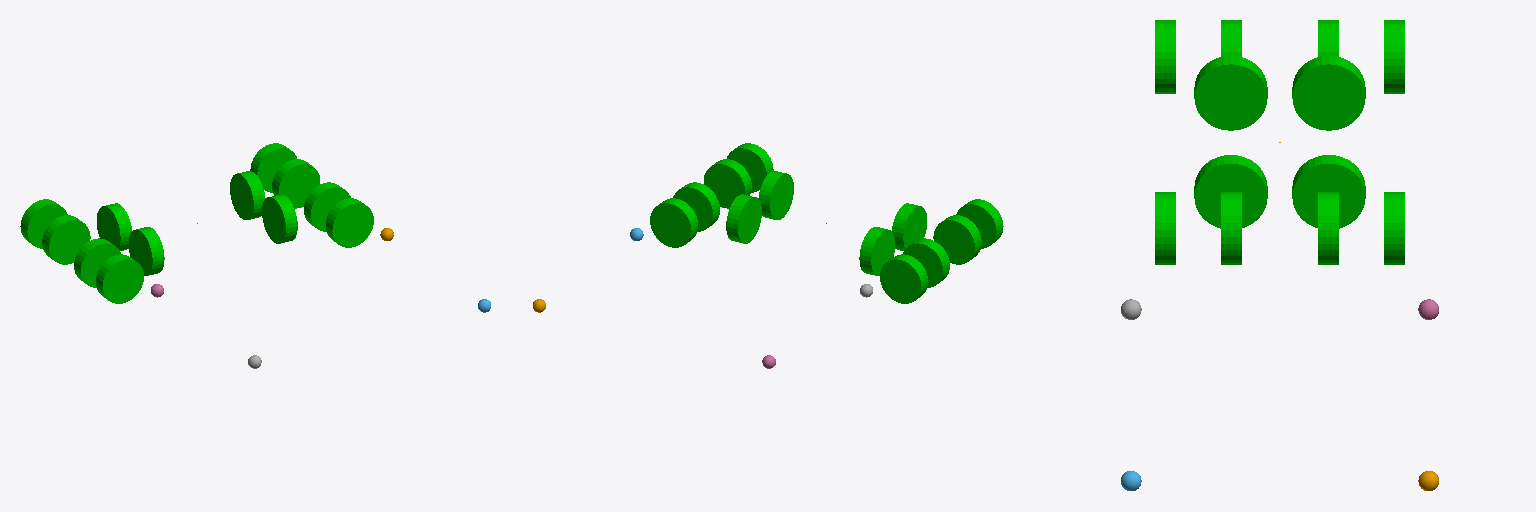
--- What the picture shows (computed from the rendered views, not written in the file) ---
3 views of the same robot in one strip: view 1: azimuth 30°, elevation 25°; view 2: azimuth 150°, elevation 25°; view 3: azimuth 270°, elevation 25° (orthographic).
Robot: go2 — 31 links, 30 joints (12 revolute, 18 fixed); root link base; default pose: joints at zero except 4 at the middle of their limits (FR_calf_joint = 1.78, FL_calf_joint = -1.78, RR_calf_joint = 1.78, RL_calf_joint = -1.78).
Links seen in each view (by area): view 1: FR_calf_rotor, RR_calf_rotor, RL_thigh_rotor, FL_thigh_rotor, FR_hip_rotor, FL_hip_rotor, RR_hip_rotor, FR_thigh_rotor, RR_thigh_rotor, RL_calf_rotor, RL_hip_rotor, FL_calf_rotor; view 2: FL_calf_rotor, RL_calf_rotor, RR_thigh_rotor, FR_thigh_rotor, FL_hip_rotor, FR_hip_rotor, RL_hip_rotor, FL_thigh_rotor, RL_thigh_rotor, RR_calf_rotor, RR_hip_rotor, FR_calf_rotor; view 3: RR_hip_rotor, RL_hip_rotor, FR_hip_rotor, FL_hip_rotor, RR_calf_rotor, RL_calf_rotor, FR_thigh_rotor, FR_calf_rotor, FL_thigh_rotor, FL_calf_rotor, RR_thigh_rotor, RL_thigh_rotor.
Link boxes in pixels (box(x1,y1,x2,y2)): FR_calf_rotor: box(326, 198, 373, 247); RR_calf_rotor: box(96, 254, 143, 303); RL_thigh_rotor: box(42, 215, 90, 264); FL_thigh_rotor: box(272, 159, 319, 208); FR_hip_rotor: box(262, 194, 297, 243); FL_hip_rotor: box(230, 171, 265, 219); RR_hip_rotor: box(129, 227, 164, 275); FR_thigh_rotor: box(304, 182, 350, 231); RR_thigh_rotor: box(74, 238, 120, 287); RL_calf_rotor: box(20, 199, 67, 248); RL_hip_rotor: box(97, 203, 131, 250); FL_calf_rotor: box(250, 143, 296, 192); FL_calf_rotor: box(650, 198, 697, 247); RL_calf_rotor: box(880, 254, 927, 303); RR_thigh_rotor: box(933, 215, 981, 264); FR_thigh_rotor: box(704, 159, 751, 208); FL_hip_rotor: box(726, 194, 761, 243); FR_hip_rotor: box(758, 171, 793, 219); RL_hip_rotor: box(859, 227, 894, 275); FL_thigh_rotor: box(673, 182, 719, 231); RL_thigh_rotor: box(903, 238, 949, 287); RR_calf_rotor: box(956, 199, 1003, 248); RR_hip_rotor: box(892, 203, 926, 250); FR_calf_rotor: box(727, 143, 773, 192); RR_hip_rotor: box(1194, 55, 1267, 130); RL_hip_rotor: box(1292, 55, 1365, 130); FR_hip_rotor: box(1194, 155, 1267, 228); FL_hip_rotor: box(1292, 155, 1365, 228); RR_calf_rotor: box(1155, 20, 1175, 93); RL_calf_rotor: box(1384, 20, 1404, 93); FR_thigh_rotor: box(1221, 192, 1241, 264); FR_calf_rotor: box(1155, 192, 1175, 264); FL_thigh_rotor: box(1318, 192, 1338, 264); FL_calf_rotor: box(1384, 192, 1404, 264); RR_thigh_rotor: box(1221, 20, 1241, 56); RL_thigh_rotor: box(1318, 20, 1338, 56).
Bounding box of the posed robot: 0.6401 × 0.304 × 0.2137 m (x, y, z).
Meshes: 5 distinct files referenced, 0 mesh visuals loaded (none loaded); not drawn: 13 (reference not matched to a file when rendering).

The robot description file, URDF, robot "go2":
<?xml version="1.0" ?>
<!-- =================================================================================== -->
<!-- |    This document was autogenerated by xacro from src/quad-stack/robots/go2_description/xacro/robot.xacro | -->
<!-- |    EDITING THIS FILE BY HAND IS NOT RECOMMENDED                                 | -->
<!-- =================================================================================== -->
<robot name="go2">
  <material name="black">
    <color rgba="0.0 0.0 0.0 1.0"/>
  </material>
  <material name="blue">
    <color rgba="0.0 0.0 0.8 1.0"/>
  </material>
  <material name="green">
    <color rgba="0.0 0.8 0.0 1.0"/>
  </material>
  <material name="grey">
    <color rgba="0.2 0.2 0.2 0.0"/>
  </material>
  <material name="silver">
    <color rgba="0.9137254901960784 0.9137254901960784 0.8470588235294118 1.0"/>
  </material>
  <material name="orange">
    <color rgba="1.0 0.4235294117647059 0.0392156862745098 1.0"/>
  </material>
  <material name="brown">
    <color rgba="0.8705882352941177 0.8117647058823529 0.7647058823529411 1.0"/>
  </material>
  <material name="red">
    <color rgba="0.8 0.0 0.0 1.0"/>
  </material>
  <material name="white">
    <color rgba="1.0 1.0 1.0 1.0"/>
  </material>
  <!-- ros_control plugin -->
  <gazebo>
    <plugin filename="libgazebo_ros_control.so" name="gazebo_ros_control">
      <robotNamespace>/go2_gazebo</robotNamespace>
      <robotSimType>gazebo_ros_control/DefaultRobotHWSim</robotSimType>
    </plugin>
  </gazebo>
  <!-- Show the trajectory of trunk center. -->
  <!--gazebo>
        <plugin name="3dplot" filename="libLinkPlot3DPlugin.so">
            <frequency>10</frequency>
            <plot>
                <link>base</link>
                <pose>0 0 0 0 0 0</pose>
                <material>Gazebo/Yellow</material>
            </plot>
        </plugin>
    </gazebo-->
  <!-- Show the trajectory of foot. You can add another trajectory about another foot. -->
  <gazebo>
    <plugin filename="libLinkPlot3DPlugin.so" name="3dplot">
      <frequency>100</frequency>
      <plot>
        <link>FL_foot</link>
        <pose>0 0 0 0 0 0</pose>
      </plot>
    </plugin>
  </gazebo>
  <gazebo>
    <plugin filename="libgazebo_ros_force.so" name="gazebo_ros_force">
      <bodyName>trunk</bodyName>
      <topicName>/apply_force/trunk</topicName>
    </plugin>
  </gazebo>
  <gazebo reference="imu_link">
    <gravity>true</gravity>
    <sensor name="imu_sensor" type="imu">
      <always_on>true</always_on>
      <update_rate>1000</update_rate>
      <visualize>true</visualize>
      <topic>__default_topic__</topic>
      <plugin filename="libgazebo_ros_imu_sensor.so" name="imu">
        <topicName>trunk_imu</topicName>
        <bodyName>imu_link</bodyName>
        <updateRateHZ>1000.0</updateRateHZ>
        <gaussianNoise>0.0</gaussianNoise>
        <xyzOffset>0 0 0</xyzOffset>
        <rpyOffset>0 0 0</rpyOffset>
        <frameName>imu_link</frameName>
      </plugin>
      <pose>0 0 0 0 0 0</pose>
    </sensor>
  </gazebo>
  <!-- Foot contacts. -->
  <gazebo reference="FR_calf">
    <sensor name="FR_foot_contact" type="contact">
      <update_rate>100</update_rate>
      <plugin filename="libunitreeFootContactPlugin.so" name="contactPlugin"/>
      <contact>
        <collision>FR_calf_fixed_joint_lump__FR_foot_collision_1</collision>
      </contact>
    </sensor>
  </gazebo>
  <gazebo reference="FL_calf">
    <sensor name="FL_foot_contact" type="contact">
      <update_rate>100</update_rate>
      <plugin filename="libunitreeFootContactPlugin.so" name="contactPlugin"/>
      <contact>
        <collision>FL_calf_fixed_joint_lump__FL_foot_collision_1</collision>
      </contact>
    </sensor>
  </gazebo>
  <gazebo reference="RR_calf">
    <sensor name="RR_foot_contact" type="contact">
      <update_rate>100</update_rate>
      <plugin filename="libunitreeFootContactPlugin.so" name="contactPlugin"/>
      <contact>
        <collision>RR_calf_fixed_joint_lump__RR_foot_collision_1</collision>
      </contact>
    </sensor>
  </gazebo>
  <gazebo reference="RL_calf">
    <sensor name="RL_foot_contact" type="contact">
      <update_rate>100</update_rate>
      <plugin filename="libunitreeFootContactPlugin.so" name="contactPlugin"/>
      <contact>
        <collision>RL_calf_fixed_joint_lump__RL_foot_collision_1</collision>
      </contact>
    </sensor>
  </gazebo>
  <!-- Visualization of Foot contacts. -->
  <gazebo reference="FR_foot">
    <visual>
      <plugin filename="libunitreeDrawForcePlugin.so" name="drawForcePlugin">
        <topicName>FR_foot_contact</topicName>
      </plugin>
    </visual>
  </gazebo>
  <gazebo reference="FL_foot">
    <visual>
      <plugin filename="libunitreeDrawForcePlugin.so" name="drawForcePlugin">
        <topicName>FL_foot_contact</topicName>
      </plugin>
    </visual>
  </gazebo>
  <gazebo reference="RR_foot">
    <visual>
      <plugin filename="libunitreeDrawForcePlugin.so" name="drawForcePlugin">
        <topicName>RR_foot_contact</topicName>
      </plugin>
    </visual>
  </gazebo>
  <gazebo reference="RL_foot">
    <visual>
      <plugin filename="libunitreeDrawForcePlugin.so" name="drawForcePlugin">
        <topicName>RL_foot_contact</topicName>
      </plugin>
    </visual>
  </gazebo>
  <!-- Gazebo neural control plugin -->
  <gazebo>
    <plugin filename="libunitree_control.so" name="unitree_gazebo_plugin">
      <robot>go2</robot>
    </plugin>
  </gazebo>
  <gazebo reference="base">
    <turnGravityOff>false</turnGravityOff>
  </gazebo>
  <gazebo reference="trunk">
    <mu1>0.2</mu1>
    <mu2>0.2</mu2>
    <kp value="1000000.0"/>
    <kd value="1.0"/>
  </gazebo>
  <gazebo reference="stick_link">
    <mu1>0.2</mu1>
    <mu2>0.2</mu2>
  </gazebo>
  <gazebo reference="imu_link">
    <mu1>0.2</mu1>
    <mu2>0.2</mu2>
  </gazebo>
  <!-- FL leg -->
  <gazebo reference="FL_hip">
    <mu1>0.2</mu1>
    <mu2>0.2</mu2>
  </gazebo>
  <gazebo reference="FL_thigh">
    <mu1>0.2</mu1>
    <mu2>0.2</mu2>
    <self_collide>1</self_collide>
    <kp value="1000000.0"/>
    <kd value="1.0"/>
  </gazebo>
  <gazebo reference="FL_calf">
    <mu1>0.2</mu1>
    <mu2>0.2</mu2>
    <self_collide>1</self_collide>
  </gazebo>
  <gazebo reference="FL_foot">
    <mu1>0.6</mu1>
    <mu2>0.6</mu2>
    <self_collide>1</self_collide>
    <kp value="1000000.0"/>
    <kd value="1.0"/>
  </gazebo>
  <!-- FR leg -->
  <gazebo reference="FR_hip">
    <mu1>0.2</mu1>
    <mu2>0.2</mu2>
  </gazebo>
  <gazebo reference="FR_thigh">
    <mu1>0.2</mu1>
    <mu2>0.2</mu2>
    <self_collide>1</self_collide>
    <kp value="1000000.0"/>
    <kd value="1.0"/>
  </gazebo>
  <gazebo reference="FR_calf">
    <mu1>0.2</mu1>
    <mu2>0.2</mu2>
    <self_collide>1</self_collide>
  </gazebo>
  <gazebo reference="FR_foot">
    <mu1>0.6</mu1>
    <mu2>0.6</mu2>
    <self_collide>1</self_collide>
    <kp value="1000000.0"/>
    <kd value="1.0"/>
  </gazebo>
  <!-- RL leg -->
  <gazebo reference="RL_hip">
    <mu1>0.2</mu1>
    <mu2>0.2</mu2>
  </gazebo>
  <gazebo reference="RL_thigh">
    <mu1>0.2</mu1>
    <mu2>0.2</mu2>
    <self_collide>1</self_collide>
    <kp value="1000000.0"/>
    <kd value="1.0"/>
  </gazebo>
  <gazebo reference="RL_calf">
    <mu1>0.2</mu1>
    <mu2>0.2</mu2>
    <self_collide>1</self_collide>
  </gazebo>
  <gazebo reference="RL_foot">
    <mu1>0.6</mu1>
    <mu2>0.6</mu2>
    <self_collide>1</self_collide>
    <kp value="1000000.0"/>
    <kd value="1.0"/>
  </gazebo>
  <!-- RR leg -->
  <gazebo reference="RR_hip">
    <mu1>0.2</mu1>
    <mu2>0.2</mu2>
  </gazebo>
  <gazebo reference="RR_thigh">
    <mu1>0.2</mu1>
    <mu2>0.2</mu2>
    <self_collide>1</self_collide>
    <kp value="1000000.0"/>
    <kd value="1.0"/>
  </gazebo>
  <gazebo reference="RR_calf">
    <mu1>0.2</mu1>
    <mu2>0.2</mu2>
    <self_collide>1</self_collide>
  </gazebo>
  <gazebo reference="RR_foot">
    <mu1>0.6</mu1>
    <mu2>0.6</mu2>
    <self_collide>1</self_collide>
    <kp value="1000000.0"/>
    <kd value="1.0"/>
  </gazebo>
  <!-- <xacro:include filename="$(find go2_gazebo)/launch/stairs.urdf.xacro"/> -->
  <!-- <xacro:stairs stairs="15" xpos="0" ypos="0" zpos="0" /> -->
  <!-- Rotor related joint and link is only for demonstrate location. -->
  <!-- Actually, the rotor will rotate and the joint is not fixed. Reduction ratio should be considered. -->
  <link name="base">
    <visual>
      <origin rpy="0 0 0" xyz="0 0 0"/>
      <geometry>
        <box size="0.001 0.001 0.001"/>
      </geometry>
    </visual>
  </link>
  <joint name="floating_base" type="fixed">
    <origin rpy="0 0 0" xyz="0 0 0"/>
    <parent link="base"/>
    <child link="trunk"/>
  </joint>
  <link name="trunk">
    <visual>
      <origin rpy="0 0 0" xyz="0 0 0"/>
      <geometry>
        <mesh filename="package://go2_description/meshes/trunk.dae" scale="1 1 1"/>
      </geometry>
      <!-- <material name="orange"/> -->
    </visual>
    <collision>
      <origin rpy="0 0 0" xyz="0 0 0"/>
      <geometry>
        <box size="0.3762 0.0935 0.114"/>
      </geometry>
    </collision>
    <inertial>
      <origin rpy="0 0 0" xyz="0.021112 0.0 -0.005366"/>
      <mass value="6.921"/>
      <inertia ixx="0.02448" ixy="0.00012166" ixz="0.0014849" iyy="0.098077" iyz="-3.12e-05" izz="0.107"/>
    </inertial>
  </link>
  <joint name="imu_joint" type="fixed">
    <parent link="trunk"/>
    <child link="imu_link"/>
    <origin rpy="0 0 0" xyz="0 0 0"/>
  </joint>
  <link name="imu_link">
    <inertial>
      <mass value="0.001"/>
      <origin rpy="0 0 0" xyz="0 0 0"/>
      <inertia ixx="0.0001" ixy="0" ixz="0" iyy="0.0001" iyz="0" izz="0.0001"/>
    </inertial>
    <visual>
      <origin rpy="0 0 0" xyz="0 0 0"/>
      <geometry>
        <box size="0.001 0.001 0.001"/>
      </geometry>
      <!-- <material name="red"/> -->
    </visual>
    <collision>
      <origin rpy="0 0 0" xyz="0 0 0"/>
      <geometry>
        <box size=".001 .001 .001"/>
      </geometry>
    </collision>
  </link>
  <joint name="FR_hip_joint" type="revolute">
    <origin rpy="0 0 0" xyz="0.1934 -0.0465 0"/>
    <parent link="trunk"/>
    <child link="FR_hip"/>
    <axis xyz="1 0 0"/>
    <dynamics damping="0.0" friction="0.0"/>
    <limit effort="23.7" lower="-1.0472" upper="1.0472" velocity="30.1"/>
  </joint>
  <joint name="FR_hip_rotor_joint" type="fixed">
    <origin rpy="0 0 0" xyz="0.11215 -0.04675 0"/>
    <parent link="trunk"/>
    <child link="FR_hip_rotor"/>
  </joint>
  <link name="FR_hip">
    <visual>
      <origin rpy="3.141592653589793 0 0" xyz="0 0 0"/>
      <geometry>
        <mesh filename="package://go2_description/meshes/hip.dae" scale="1 1 1"/>
      </geometry>
      <!-- <material name="orange"/> -->
    </visual>
    <collision>
      <origin rpy="1.5707963267948966 0 0" xyz="0 -0.0955 0"/>
      <geometry>
        <cylinder length="0.04" radius="0.046"/>
      </geometry>
    </collision>
    <inertial>
      <origin rpy="0 0 0" xyz="-0.0054 -0.00194 -0.000105"/>
      <mass value="0.678"/>
      <inertia ixx="0.00048" ixy="3.01e-06" ixz="1.11e-06" iyy="0.000884" iyz="1.42e-06" izz="0.000596"/>
    </inertial>
  </link>
  <link name="FR_hip_rotor">
    <visual>
      <origin rpy="0 1.5707963267948966 0" xyz="0 0 0"/>
      <geometry>
        <cylinder length="0.02" radius="0.035"/>
      </geometry>
      <material name="green"/>
    </visual>
    <!-- <collision>
                <origin rpy="0 ${PI/2.0} 0" xyz="0 0 0"/>
                <geometry>
                    <cylinder length="0.02" radius="0.035"/>
                </geometry>
            </collision> -->
    <inertial>
      <origin rpy="0 0 0" xyz="0.0 0.0 0.0"/>
      <mass value="0.089"/>
      <inertia ixx="0.000111842" ixy="0.0" ixz="0.0" iyy="5.9647e-05" iyz="0.0" izz="5.9647e-05"/>
    </inertial>
  </link>
  <joint name="FR_thigh_joint" type="revolute">
    <origin rpy="0 0 0" xyz="0 -0.0955 0"/>
    <parent link="FR_hip"/>
    <child link="FR_thigh"/>
    <axis xyz="0 -1 0"/>
    <dynamics damping="0.0" friction="0.0"/>
    <limit effort="23.7" lower="-3.4907" upper="1.5708" velocity="30.1"/>
  </joint>
  <joint name="FR_thigh_rotor_joint" type="fixed">
    <origin rpy="0 0 0" xyz="0.0 0.00015 0"/>
    <parent link="FR_hip"/>
    <child link="FR_thigh_rotor"/>
  </joint>
  <link name="FR_thigh">
    <visual>
      <origin rpy="0 0 0" xyz="0 0 0"/>
      <geometry>
        <mesh filename="package://go2_description/meshes/thigh_mirror.dae" scale="1 1 1"/>
      </geometry>
      <!-- <material name="orange"/> -->
    </visual>
    <collision>
      <origin rpy="0 1.5707963267948966 0" xyz="0 0 -0.1065"/>
      <geometry>
        <box size="0.213 0.0245 0.034"/>
      </geometry>
    </collision>
    <inertial>
      <origin rpy="0 0 0" xyz="-0.00374 0.0223 -0.0327"/>
      <mass value="1.152"/>
      <inertia ixx="0.00584" ixy="-8.72e-05" ixz="-0.000289" iyy="0.0058" iyz="-0.000808" izz="0.00103"/>
    </inertial>
  </link>
  <link name="FR_thigh_rotor">
    <visual>
      <origin rpy="1.5707963267948966 0 0" xyz="0 0 0"/>
      <geometry>
        <cylinder length="0.02" radius="0.035"/>
      </geometry>
      <material name="green"/>
    </visual>
    <!-- <collision>
                <origin rpy="${PI/2.0} 0 0" xyz="0 0 0"/>
                <geometry>
                    <cylinder length="0.02" radius="0.035"/>
                </geometry>
            </collision> -->
    <inertial>
      <origin rpy="0 0 0" xyz="0.0 0.0 0.0"/>
      <mass value="0.089"/>
      <inertia ixx="5.9647e-05" ixy="0.0" ixz="0.0" iyy="0.000111842" iyz="0.0" izz="5.9647e-05"/>
    </inertial>
  </link>
  <joint name="FR_calf_joint" type="revolute">
    <origin rpy="0 0 0" xyz="0 0 -0.213"/>
    <parent link="FR_thigh"/>
    <child link="FR_calf"/>
    <axis xyz="0 -1 0"/>
    <dynamics damping="0.0" friction="0.0"/>
    <limit effort="35.55" lower="0.83776" upper="2.7227" velocity="20.06"/>
  </joint>
  <joint name="FR_calf_rotor_joint" type="fixed">
    <origin rpy="0 0 0" xyz="0.0 0.03235 0"/>
    <parent link="FR_thigh"/>
    <child link="FR_calf_rotor"/>
  </joint>
  <link name="FR_calf">
    <visual>
      <origin rpy="0 0 0" xyz="0 0 0"/>
      <geometry>
        <mesh filename="package://go2_description/meshes/calf.dae" scale="1 1 1"/>
      </geometry>
      <!-- <material name="orange"/> -->
    </visual>
    <collision>
      <origin rpy="0 1.5707963267948966 0" xyz="0 0 -0.1065"/>
      <geometry>
        <box size="0.213 0.016 0.016"/>
      </geometry>
    </collision>
    <inertial>
      <origin rpy="0 0 0" xyz="0.00548 -0.000975 -0.115"/>
      <mass value="0.154"/>
      <inertia ixx="0.00108" ixy="3.4e-07" ixz="1.72e-05" iyy="0.0011" iyz="8.28e-06" izz="3.29e-05"/>
    </inertial>
  </link>
  <link name="FR_calf_rotor">
    <visual>
      <origin rpy="1.5707963267948966 0 0" xyz="0 0 0"/>
      <geometry>
        <cylinder length="0.02" radius="0.035"/>
      </geometry>
      <material name="green"/>
    </visual>
    <!-- <collision>
                <origin rpy="${PI/2.0} 0 0" xyz="0 0 0"/>
                <geometry>
                    <cylinder length="0.02" radius="0.035"/>
                </geometry>
            </collision> -->
    <inertial>
      <origin rpy="0 0 0" xyz="0.0 0.0 0.0"/>
      <mass value="0.089"/>
      <inertia ixx="5.9647e-05" ixy="0.0" ixz="0.0" iyy="0.000111842" iyz="0.0" izz="5.9647e-05"/>
    </inertial>
  </link>
  <joint name="FR_foot_fixed" type="fixed">
    <origin rpy="0 0 0" xyz="0 0 -0.213"/>
    <parent link="FR_calf"/>
    <child link="FR_foot"/>
  </joint>
  <link name="FR_foot">
    <visual>
      <origin rpy="0 0 0" xyz="0 0 0"/>
      <geometry>
        <sphere radius="0.01"/>
      </geometry>
      <!-- <material name="orange"/> -->
    </visual>
    <collision>
      <origin rpy="0 0 0" xyz="0 0 0"/>
      <geometry>
        <sphere radius="0.02"/>
      </geometry>
    </collision>
    <inertial>
      <mass value="0.06"/>
      <inertia ixx="9.600000000000001e-06" ixy="0.0" ixz="0.0" iyy="9.600000000000001e-06" iyz="0.0" izz="9.600000000000001e-06"/>
    </inertial>
  </link>
  <transmission name="FR_hip_tran">
    <type>transmission_interface/SimpleTransmission</type>
    <joint name="FR_hip_joint">
      <hardwareInterface>hardware_interface/EffortJointInterface</hardwareInterface>
    </joint>
    <actuator name="FR_hip_motor">
      <hardwareInterface>hardware_interface/EffortJointInterface</hardwareInterface>
      <mechanicalReduction>1</mechanicalReduction>
    </actuator>
  </transmission>
  <transmission name="FR_thigh_tran">
    <type>transmission_interface/SimpleTransmission</type>
    <joint name="FR_thigh_joint">
      <hardwareInterface>hardware_interface/EffortJointInterface</hardwareInterface>
    </joint>
    <actuator name="FR_thigh_motor">
      <hardwareInterface>hardware_interface/EffortJointInterface</hardwareInterface>
      <mechanicalReduction>1</mechanicalReduction>
    </actuator>
  </transmission>
  <transmission name="FR_calf_tran">
    <type>transmission_interface/SimpleTransmission</type>
    <joint name="FR_calf_joint">
      <hardwareInterface>hardware_interface/EffortJointInterface</hardwareInterface>
    </joint>
    <actuator name="FR_calf_motor">
      <hardwareInterface>hardware_interface/EffortJointInterface</hardwareInterface>
      <mechanicalReduction>1</mechanicalReduction>
    </actuator>
  </transmission>
  <joint name="FL_hip_joint" type="revolute">
    <origin rpy="0 0 0" xyz="0.1934 0.0465 0"/>
    <parent link="trunk"/>
    <child link="FL_hip"/>
    <axis xyz="1 0 0"/>
    <dynamics damping="0.0" friction="0.0"/>
    <limit effort="23.7" lower="-1.0472" upper="1.0472" velocity="30.1"/>
  </joint>
  <joint name="FL_hip_rotor_joint" type="fixed">
    <origin rpy="0 0 0" xyz="0.11215 0.04675 0"/>
    <parent link="trunk"/>
    <child link="FL_hip_rotor"/>
  </joint>
  <link name="FL_hip">
    <visual>
      <origin rpy="0 0 0" xyz="0 0 0"/>
      <geometry>
        <mesh filename="package://go2_description/meshes/hip.dae" scale="1 1 1"/>
      </geometry>
      <!-- <material name="orange"/> -->
    </visual>
    <collision>
      <origin rpy="1.5707963267948966 0 0" xyz="0 0.0955 0"/>
      <geometry>
        <cylinder length="0.04" radius="0.046"/>
      </geometry>
    </collision>
    <inertial>
      <origin rpy="0 0 0" xyz="-0.0054 0.00194 -0.000105"/>
      <mass value="0.678"/>
      <inertia ixx="0.00048" ixy="-3.01e-06" ixz="1.11e-06" iyy="0.000884" iyz="-1.42e-06" izz="0.000596"/>
    </inertial>
  </link>
  <link name="FL_hip_rotor">
    <visual>
      <origin rpy="0 1.5707963267948966 0" xyz="0 0 0"/>
      <geometry>
        <cylinder length="0.02" radius="0.035"/>
      </geometry>
      <material name="green"/>
    </visual>
    <!-- <collision>
                <origin rpy="0 ${PI/2.0} 0" xyz="0 0 0"/>
                <geometry>
                    <cylinder length="0.02" radius="0.035"/>
                </geometry>
            </collision> -->
    <inertial>
      <origin rpy="0 0 0" xyz="0.0 0.0 0.0"/>
      <mass value="0.089"/>
      <inertia ixx="0.000111842" ixy="0.0" ixz="0.0" iyy="5.9647e-05" iyz="0.0" izz="5.9647e-05"/>
    </inertial>
  </link>
  <joint name="FL_thigh_joint" type="revolute">
    <origin rpy="0 0 0" xyz="0 0.0955 0"/>
    <parent link="FL_hip"/>
    <child link="FL_thigh"/>
    <axis xyz="0 1 0"/>
    <dynamics damping="0.0" friction="0.0"/>
    <limit effort="23.7" lower="-1.5708" upper="3.4907" velocity="30.1"/>
  </joint>
  <joint name="FL_thigh_rotor_joint" type="fixed">
    <origin rpy="0 0 0" xyz="0.0 -0.00015 0"/>
    <parent link="FL_hip"/>
    <child link="FL_thigh_rotor"/>
  </joint>
  <link name="FL_thigh">
    <visual>
      <origin rpy="0 0 0" xyz="0 0 0"/>
      <geometry>
        <mesh filename="package://go2_description/meshes/thigh.dae" scale="1 1 1"/>
      </geometry>
      <!-- <material name="orange"/> -->
    </visual>
    <collision>
      <origin rpy="0 1.5707963267948966 0" xyz="0 0 -0.1065"/>
      <geometry>
        <box size="0.213 0.0245 0.034"/>
      </geometry>
    </collision>
    <inertial>
      <origin rpy="0 0 0" xyz="-0.00374 -0.0223 -0.0327"/>
      <mass value="1.152"/>
      <inertia ixx="0.00584" ixy="8.72e-05" ixz="-0.000289" iyy="0.0058" iyz="0.000808" izz="0.00103"/>
    </inertial>
  </link>
  <link name="FL_thigh_rotor">
    <visual>
      <origin rpy="1.5707963267948966 0 0" xyz="0 0 0"/>
      <geometry>
        <cylinder length="0.02" radius="0.035"/>
      </geometry>
      <material name="green"/>
    </visual>
    <!-- <collision>
                <origin rpy="${PI/2.0} 0 0" xyz="0 0 0"/>
                <geometry>
                    <cylinder length="0.02" radius="0.035"/>
                </geometry>
            </collision> -->
    <inertial>
      <origin rpy="0 0 0" xyz="0.0 0.0 0.0"/>
      <mass value="0.089"/>
      <inertia ixx="5.9647e-05" ixy="0.0" ixz="0.0" iyy="0.000111842" iyz="0.0" izz="5.9647e-05"/>
    </inertial>
  </link>
  <joint name="FL_calf_joint" type="revolute">
    <origin rpy="0 0 0" xyz="0 0 -0.213"/>
    <parent link="FL_thigh"/>
    <child link="FL_calf"/>
    <axis xyz="0 1 0"/>
    <dynamics damping="0.0" friction="0.0"/>
    <limit effort="35.55" lower="-2.7227" upper="-0.83776" velocity="20.06"/>
  </joint>
  <joint name="FL_calf_rotor_joint" type="fixed">
    <origin rpy="0 0 0" xyz="0.0 -0.03235 0"/>
    <parent link="FL_thigh"/>
    <child link="FL_calf_rotor"/>
  </joint>
  <link name="FL_calf">
    <visual>
      <origin rpy="0 0 0" xyz="0 0 0"/>
      <geometry>
        <mesh filename="package://go2_description/meshes/calf.dae" scale="1 1 1"/>
      </geometry>
      <!-- <material name="orange"/> -->
    </visual>
    <collision>
      <origin rpy="0 1.5707963267948966 0" xyz="0 0 -0.1065"/>
      <geometry>
        <box size="0.213 0.016 0.016"/>
      </geometry>
    </collision>
    <inertial>
      <origin rpy="0 0 0" xyz="0.00548 -0.000975 -0.115"/>
      <mass value="0.154"/>
      <inertia ixx="0.00108" ixy="3.4e-07" ixz="1.72e-05" iyy="0.0011" iyz="8.28e-06" izz="3.29e-05"/>
    </inertial>
  </link>
  <link name="FL_calf_rotor">
    <visual>
      <origin rpy="1.5707963267948966 0 0" xyz="0 0 0"/>
      <geometry>
        <cylinder length="0.02" radius="0.035"/>
      </geometry>
      <material name="green"/>
    </visual>
    <!-- <collision>
                <origin rpy="${PI/2.0} 0 0" xyz="0 0 0"/>
                <geometry>
                    <cylinder length="0.02" radius="0.035"/>
                </geometry>
            </collision> -->
    <inertial>
      <origin rpy="0 0 0" xyz="0.0 0.0 0.0"/>
      <mass value="0.089"/>
      <inertia ixx="5.9647e-05" ixy="0.0" ixz="0.0" iyy="0.000111842" iyz="0.0" izz="5.9647e-05"/>
    </inertial>
  </link>
  <joint name="FL_foot_fixed" type="fixed">
    <origin rpy="0 0 0" xyz="0 0 -0.213"/>
    <parent link="FL_calf"/>
    <child link="FL_foot"/>
  </joint>
  <link name="FL_foot">
    <visual>
      <origin rpy="0 0 0" xyz="0 0 0"/>
      <geometry>
        <sphere radius="0.01"/>
      </geometry>
      <!-- <material name="orange"/> -->
    </visual>
    <collision>
      <origin rpy="0 0 0" xyz="0 0 0"/>
      <geometry>
        <sphere radius="0.02"/>
      </geometry>
    </collision>
    <inertial>
      <mass value="0.06"/>
      <inertia ixx="9.600000000000001e-06" ixy="0.0" ixz="0.0" iyy="9.600000000000001e-06" iyz="0.0" izz="9.600000000000001e-06"/>
    </inertial>
  </link>
  <transmission name="FL_hip_tran">
    <type>transmission_interface/SimpleTransmission</type>
    <joint name="FL_hip_joint">
      <hardwareInterface>hardware_interface/EffortJointInterface</hardwareInterface>
    </joint>
    <actuator name="FL_hip_motor">
      <hardwareInterface>hardware_interface/EffortJointInterface</hardwareInterface>
      <mechanicalReduction>1</mechanicalReduction>
    </actuator>
  </transmission>
  <transmission name="FL_thigh_tran">
    <type>transmission_interface/SimpleTransmission</type>
    <joint name="FL_thigh_joint">
      <hardwareInterface>hardware_interface/EffortJointInterface</hardwareInterface>
    </joint>
    <actuator name="FL_thigh_motor">
      <hardwareInterface>hardware_interface/EffortJointInterface</hardwareInterface>
      <mechanicalReduction>1</mechanicalReduction>
    </actuator>
  </transmission>
  <transmission name="FL_calf_tran">
    <type>transmission_interface/SimpleTransmission</type>
    <joint name="FL_calf_joint">
      <hardwareInterface>hardware_interface/EffortJointInterface</hardwareInterface>
    </joint>
    <actuator name="FL_calf_motor">
      <hardwareInterface>hardware_interface/EffortJointInterface</hardwareInterface>
      <mechanicalReduction>1</mechanicalReduction>
    </actuator>
  </transmission>
  <joint name="RR_hip_joint" type="revolute">
    <origin rpy="0 0 0" xyz="-0.1934 -0.0465 0"/>
    <parent link="trunk"/>
    <child link="RR_hip"/>
    <axis xyz="-1 0 0"/>
    <dynamics damping="0.0" friction="0.0"/>
    <limit effort="23.7" lower="-1.0472" upper="1.0472" velocity="30.1"/>
  </joint>
  <joint name="RR_hip_rotor_joint" type="fixed">
    <origin rpy="0 0 0" xyz="-0.11215 -0.04675 0"/>
    <parent link="trunk"/>
    <child link="RR_hip_rotor"/>
  </joint>
  <link name="RR_hip">
    <visual>
      <origin rpy="3.141592653589793 3.141592653589793 0" xyz="0 0 0"/>
      <geometry>
        <mesh filename="package://go2_description/meshes/hip.dae" scale="1 1 1"/>
      </geometry>
      <!-- <material name="orange"/> -->
    </visual>
    <collision>
      <origin rpy="1.5707963267948966 0 0" xyz="0 -0.0955 0"/>
      <geometry>
        <cylinder length="0.04" radius="0.046"/>
      </geometry>
    </collision>
    <inertial>
      <origin rpy="0 0 0" xyz="0.0054 -0.00194 -0.000105"/>
      <mass value="0.678"/>
      <inertia ixx="0.00048" ixy="-3.01e-06" ixz="-1.11e-06" iyy="0.000884" iyz="1.42e-06" izz="0.000596"/>
    </inertial>
  </link>
  <link name="RR_hip_rotor">
    <visual>
      <origin rpy="0 1.5707963267948966 0" xyz="0 0 0"/>
      <geometry>
        <cylinder length="0.02" radius="0.035"/>
      </geometry>
      <material name="green"/>
    </visual>
    <!-- <collision>
                <origin rpy="0 ${PI/2.0} 0" xyz="0 0 0"/>
                <geometry>
                    <cylinder length="0.02" radius="0.035"/>
                </geometry>
            </collision> -->
    <inertial>
      <origin rpy="0 0 0" xyz="0.0 0.0 0.0"/>
      <mass value="0.089"/>
      <inertia ixx="0.000111842" ixy="0.0" ixz="0.0" iyy="5.9647e-05" iyz="0.0" izz="5.9647e-05"/>
    </inertial>
  </link>
  <joint name="RR_thigh_joint" type="revolute">
    <origin rpy="0 0 0" xyz="0 -0.0955 0"/>
    <parent link="RR_hip"/>
    <child link="RR_thigh"/>
    <axis xyz="0 -1 0"/>
    <dynamics damping="0.0" friction="0.0"/>
    <limit effort="23.7" lower="-3.4907" upper="1.5708" velocity="30.1"/>
  </joint>
  <joint name="RR_thigh_rotor_joint" type="fixed">
    <origin rpy="0 0 0" xyz="0.0 0.00015 0"/>
    <parent link="RR_hip"/>
    <child link="RR_thigh_rotor"/>
  </joint>
  <link name="RR_thigh">
    <visual>
      <origin rpy="0 0 0" xyz="0 0 0"/>
      <geometry>
        <mesh filename="package://go2_description/meshes/thigh_mirror.dae" scale="1 1 1"/>
      </geometry>
      <!-- <material name="orange"/> -->
    </visual>
    <collision>
      <origin rpy="0 1.5707963267948966 0" xyz="0 0 -0.1065"/>
      <geometry>
        <box size="0.213 0.0245 0.034"/>
      </geometry>
    </collision>
    <inertial>
      <origin rpy="0 0 0" xyz="-0.00374 0.0223 -0.0327"/>
      <mass value="1.152"/>
      <inertia ixx="0.00584" ixy="-8.72e-05" ixz="-0.000289" iyy="0.0058" iyz="-0.000808" izz="0.00103"/>
    </inertial>
  </link>
  <link name="RR_thigh_rotor">
    <visual>
      <origin rpy="1.5707963267948966 0 0" xyz="0 0 0"/>
      <geometry>
        <cylinder length="0.02" radius="0.035"/>
      </geometry>
      <material name="green"/>
    </visual>
    <!-- <collision>
                <origin rpy="${PI/2.0} 0 0" xyz="0 0 0"/>
                <geometry>
                    <cylinder length="0.02" radius="0.035"/>
                </geometry>
            </collision> -->
    <inertial>
      <origin rpy="0 0 0" xyz="0.0 0.0 0.0"/>
      <mass value="0.089"/>
      <inertia ixx="5.9647e-05" ixy="0.0" ixz="0.0" iyy="0.000111842" iyz="0.0" izz="5.9647e-05"/>
    </inertial>
  </link>
  <joint name="RR_calf_joint" type="revolute">
    <origin rpy="0 0 0" xyz="0 0 -0.213"/>
    <parent link="RR_thigh"/>
    <child link="RR_calf"/>
    <axis xyz="0 -1 0"/>
    <dynamics damping="0.0" friction="0.0"/>
    <limit effort="35.55" lower="0.83776" upper="2.7227" velocity="20.06"/>
  </joint>
  <joint name="RR_calf_rotor_joint" type="fixed">
    <origin rpy="0 0 0" xyz="0.0 0.03235 0"/>
    <parent link="RR_thigh"/>
    <child link="RR_calf_rotor"/>
  </joint>
  <link name="RR_calf">
    <visual>
      <origin rpy="0 0 0" xyz="0 0 0"/>
      <geometry>
        <mesh filename="package://go2_description/meshes/calf.dae" scale="1 1 1"/>
      </geometry>
      <!-- <material name="orange"/> -->
    </visual>
    <collision>
      <origin rpy="0 1.5707963267948966 0" xyz="0 0 -0.1065"/>
      <geometry>
        <box size="0.213 0.016 0.016"/>
      </geometry>
    </collision>
    <inertial>
      <origin rpy="0 0 0" xyz="0.00548 -0.000975 -0.115"/>
      <mass value="0.154"/>
      <inertia ixx="0.00108" ixy="3.4e-07" ixz="1.72e-05" iyy="0.0011" iyz="8.28e-06" izz="3.29e-05"/>
    </inertial>
  </link>
  <link name="RR_calf_rotor">
    <visual>
      <origin rpy="1.5707963267948966 0 0" xyz="0 0 0"/>
      <geometry>
        <cylinder length="0.02" radius="0.035"/>
      </geometry>
      <material name="green"/>
    </visual>
    <!-- <collision>
                <origin rpy="${PI/2.0} 0 0" xyz="0 0 0"/>
                <geometry>
                    <cylinder length="0.02" radius="0.035"/>
                </geometry>
            </collision> -->
    <inertial>
      <origin rpy="0 0 0" xyz="0.0 0.0 0.0"/>
      <mass value="0.089"/>
      <inertia ixx="5.9647e-05" ixy="0.0" ixz="0.0" iyy="0.000111842" iyz="0.0" izz="5.9647e-05"/>
    </inertial>
  </link>
  <joint name="RR_foot_fixed" type="fixed">
    <origin rpy="0 0 0" xyz="0 0 -0.213"/>
    <parent link="RR_calf"/>
    <child link="RR_foot"/>
  </joint>
  <link name="RR_foot">
    <visual>
      <origin rpy="0 0 0" xyz="0 0 0"/>
      <geometry>
        <sphere radius="0.01"/>
      </geometry>
      <!-- <material name="orange"/> -->
    </visual>
    <collision>
      <origin rpy="0 0 0" xyz="0 0 0"/>
      <geometry>
        <sphere radius="0.02"/>
      </geometry>
    </collision>
    <inertial>
      <mass value="0.06"/>
      <inertia ixx="9.600000000000001e-06" ixy="0.0" ixz="0.0" iyy="9.600000000000001e-06" iyz="0.0" izz="9.600000000000001e-06"/>
    </inertial>
  </link>
  <transmission name="RR_hip_tran">
    <type>transmission_interface/SimpleTransmission</type>
    <joint name="RR_hip_joint">
      <hardwareInterface>hardware_interface/EffortJointInterface</hardwareInterface>
    </joint>
    <actuator name="RR_hip_motor">
      <hardwareInterface>hardware_interface/EffortJointInterface</hardwareInterface>
      <mechanicalReduction>1</mechanicalReduction>
    </actuator>
  </transmission>
  <transmission name="RR_thigh_tran">
    <type>transmission_interface/SimpleTransmission</type>
    <joint name="RR_thigh_joint">
      <hardwareInterface>hardware_interface/EffortJointInterface</hardwareInterface>
    </joint>
    <actuator name="RR_thigh_motor">
      <hardwareInterface>hardware_interface/EffortJointInterface</hardwareInterface>
      <mechanicalReduction>1</mechanicalReduction>
    </actuator>
  </transmission>
  <transmission name="RR_calf_tran">
    <type>transmission_interface/SimpleTransmission</type>
    <joint name="RR_calf_joint">
      <hardwareInterface>hardware_interface/EffortJointInterface</hardwareInterface>
    </joint>
    <actuator name="RR_calf_motor">
      <hardwareInterface>hardware_interface/EffortJointInterface</hardwareInterface>
      <mechanicalReduction>1</mechanicalReduction>
    </actuator>
  </transmission>
  <joint name="RL_hip_joint" type="revolute">
    <origin rpy="0 0 0" xyz="-0.1934 0.0465 0"/>
    <parent link="trunk"/>
    <child link="RL_hip"/>
    <axis xyz="-1 0 0"/>
    <dynamics damping="0.0" friction="0.0"/>
    <limit effort="23.7" lower="-1.0472" upper="1.0472" velocity="30.1"/>
  </joint>
  <joint name="RL_hip_rotor_joint" type="fixed">
    <origin rpy="0 0 0" xyz="-0.11215 0.04675 0"/>
    <parent link="trunk"/>
    <child link="RL_hip_rotor"/>
  </joint>
  <link name="RL_hip">
    <visual>
      <origin rpy="0 3.141592653589793 0" xyz="0 0 0"/>
      <geometry>
        <mesh filename="package://go2_description/meshes/hip.dae" scale="1 1 1"/>
      </geometry>
      <!-- <material name="orange"/> -->
    </visual>
    <collision>
      <origin rpy="1.5707963267948966 0 0" xyz="0 0.0955 0"/>
      <geometry>
        <cylinder length="0.04" radius="0.046"/>
      </geometry>
    </collision>
    <inertial>
      <origin rpy="0 0 0" xyz="0.0054 0.00194 -0.000105"/>
      <mass value="0.678"/>
      <inertia ixx="0.00048" ixy="3.01e-06" ixz="-1.11e-06" iyy="0.000884" iyz="-1.42e-06" izz="0.000596"/>
    </inertial>
  </link>
  <link name="RL_hip_rotor">
    <visual>
      <origin rpy="0 1.5707963267948966 0" xyz="0 0 0"/>
      <geometry>
        <cylinder length="0.02" radius="0.035"/>
      </geometry>
      <material name="green"/>
    </visual>
    <!-- <collision>
                <origin rpy="0 ${PI/2.0} 0" xyz="0 0 0"/>
                <geometry>
                    <cylinder length="0.02" radius="0.035"/>
                </geometry>
            </collision> -->
    <inertial>
      <origin rpy="0 0 0" xyz="0.0 0.0 0.0"/>
      <mass value="0.089"/>
      <inertia ixx="0.000111842" ixy="0.0" ixz="0.0" iyy="5.9647e-05" iyz="0.0" izz="5.9647e-05"/>
    </inertial>
  </link>
  <joint name="RL_thigh_joint" type="revolute">
    <origin rpy="0 0 0" xyz="0 0.0955 0"/>
    <parent link="RL_hip"/>
    <child link="RL_thigh"/>
    <axis xyz="0 1 0"/>
    <dynamics damping="0.0" friction="0.0"/>
    <limit effort="23.7" lower="-1.5708" upper="3.4907" velocity="30.1"/>
  </joint>
  <joint name="RL_thigh_rotor_joint" type="fixed">
    <origin rpy="0 0 0" xyz="0.0 -0.00015 0"/>
    <parent link="RL_hip"/>
    <child link="RL_thigh_rotor"/>
  </joint>
  <link name="RL_thigh">
    <visual>
      <origin rpy="0 0 0" xyz="0 0 0"/>
      <geometry>
        <mesh filename="package://go2_description/meshes/thigh.dae" scale="1 1 1"/>
      </geometry>
      <!-- <material name="orange"/> -->
    </visual>
    <collision>
      <origin rpy="0 1.5707963267948966 0" xyz="0 0 -0.1065"/>
      <geometry>
        <box size="0.213 0.0245 0.034"/>
      </geometry>
    </collision>
    <inertial>
      <origin rpy="0 0 0" xyz="-0.00374 -0.0223 -0.0327"/>
      <mass value="1.152"/>
      <inertia ixx="0.00584" ixy="8.72e-05" ixz="-0.000289" iyy="0.0058" iyz="0.000808" izz="0.00103"/>
    </inertial>
  </link>
  <link name="RL_thigh_rotor">
    <visual>
      <origin rpy="1.5707963267948966 0 0" xyz="0 0 0"/>
      <geometry>
        <cylinder length="0.02" radius="0.035"/>
      </geometry>
      <material name="green"/>
    </visual>
    <!-- <collision>
                <origin rpy="${PI/2.0} 0 0" xyz="0 0 0"/>
                <geometry>
                    <cylinder length="0.02" radius="0.035"/>
                </geometry>
            </collision> -->
    <inertial>
      <origin rpy="0 0 0" xyz="0.0 0.0 0.0"/>
      <mass value="0.089"/>
      <inertia ixx="5.9647e-05" ixy="0.0" ixz="0.0" iyy="0.000111842" iyz="0.0" izz="5.9647e-05"/>
    </inertial>
  </link>
  <joint name="RL_calf_joint" type="revolute">
    <origin rpy="0 0 0" xyz="0 0 -0.213"/>
    <parent link="RL_thigh"/>
    <child link="RL_calf"/>
    <axis xyz="0 1 0"/>
    <dynamics damping="0.0" friction="0.0"/>
    <limit effort="35.55" lower="-2.7227" upper="-0.83776" velocity="20.06"/>
  </joint>
  <joint name="RL_calf_rotor_joint" type="fixed">
    <origin rpy="0 0 0" xyz="0.0 -0.03235 0"/>
    <parent link="RL_thigh"/>
    <child link="RL_calf_rotor"/>
  </joint>
  <link name="RL_calf">
    <visual>
      <origin rpy="0 0 0" xyz="0 0 0"/>
      <geometry>
        <mesh filename="package://go2_description/meshes/calf.dae" scale="1 1 1"/>
      </geometry>
      <!-- <material name="orange"/> -->
    </visual>
    <collision>
      <origin rpy="0 1.5707963267948966 0" xyz="0 0 -0.1065"/>
      <geometry>
        <box size="0.213 0.016 0.016"/>
      </geometry>
    </collision>
    <inertial>
      <origin rpy="0 0 0" xyz="0.00548 -0.000975 -0.115"/>
      <mass value="0.154"/>
      <inertia ixx="0.00108" ixy="3.4e-07" ixz="1.72e-05" iyy="0.0011" iyz="8.28e-06" izz="3.29e-05"/>
    </inertial>
  </link>
  <link name="RL_calf_rotor">
    <visual>
      <origin rpy="1.5707963267948966 0 0" xyz="0 0 0"/>
      <geometry>
        <cylinder length="0.02" radius="0.035"/>
      </geometry>
      <material name="green"/>
    </visual>
    <!-- <collision>
                <origin rpy="${PI/2.0} 0 0" xyz="0 0 0"/>
                <geometry>
                    <cylinder length="0.02" radius="0.035"/>
                </geometry>
            </collision> -->
    <inertial>
      <origin rpy="0 0 0" xyz="0.0 0.0 0.0"/>
      <mass value="0.089"/>
      <inertia ixx="5.9647e-05" ixy="0.0" ixz="0.0" iyy="0.000111842" iyz="0.0" izz="5.9647e-05"/>
    </inertial>
  </link>
  <joint name="RL_foot_fixed" type="fixed">
    <origin rpy="0 0 0" xyz="0 0 -0.213"/>
    <parent link="RL_calf"/>
    <child link="RL_foot"/>
  </joint>
  <link name="RL_foot">
    <visual>
      <origin rpy="0 0 0" xyz="0 0 0"/>
      <geometry>
        <sphere radius="0.01"/>
      </geometry>
      <!-- <material name="orange"/> -->
    </visual>
    <collision>
      <origin rpy="0 0 0" xyz="0 0 0"/>
      <geometry>
        <sphere radius="0.02"/>
      </geometry>
    </collision>
    <inertial>
      <mass value="0.06"/>
      <inertia ixx="9.600000000000001e-06" ixy="0.0" ixz="0.0" iyy="9.600000000000001e-06" iyz="0.0" izz="9.600000000000001e-06"/>
    </inertial>
  </link>
  <transmission name="RL_hip_tran">
    <type>transmission_interface/SimpleTransmission</type>
    <joint name="RL_hip_joint">
      <hardwareInterface>hardware_interface/EffortJointInterface</hardwareInterface>
    </joint>
    <actuator name="RL_hip_motor">
      <hardwareInterface>hardware_interface/EffortJointInterface</hardwareInterface>
      <mechanicalReduction>1</mechanicalReduction>
    </actuator>
  </transmission>
  <transmission name="RL_thigh_tran">
    <type>transmission_interface/SimpleTransmission</type>
    <joint name="RL_thigh_joint">
      <hardwareInterface>hardware_interface/EffortJointInterface</hardwareInterface>
    </joint>
    <actuator name="RL_thigh_motor">
      <hardwareInterface>hardware_interface/EffortJointInterface</hardwareInterface>
      <mechanicalReduction>1</mechanicalReduction>
    </actuator>
  </transmission>
  <transmission name="RL_calf_tran">
    <type>transmission_interface/SimpleTransmission</type>
    <joint name="RL_calf_joint">
      <hardwareInterface>hardware_interface/EffortJointInterface</hardwareInterface>
    </joint>
    <actuator name="RL_calf_motor">
      <hardwareInterface>hardware_interface/EffortJointInterface</hardwareInterface>
      <mechanicalReduction>1</mechanicalReduction>
    </actuator>
  </transmission>
</robot>
